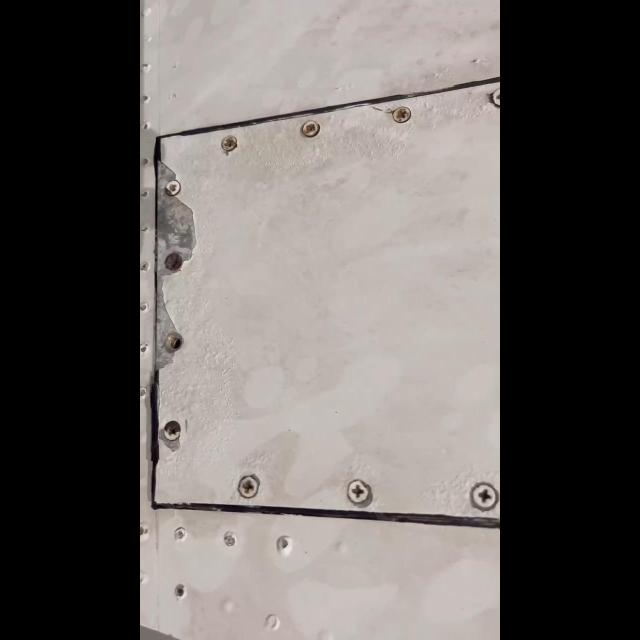Missing Fastener: (160, 332, 187, 356)
